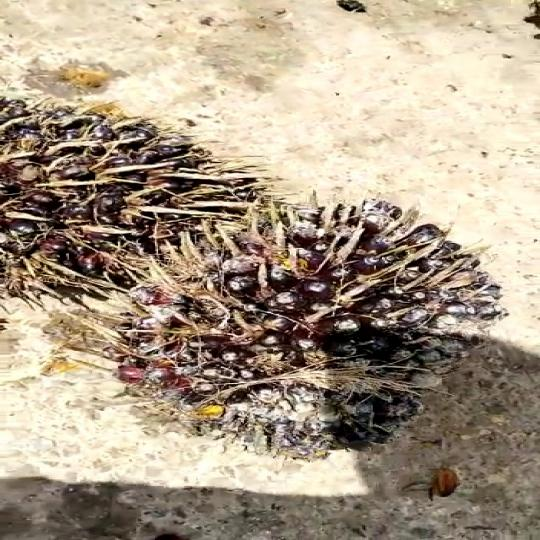mentah: (115, 178, 530, 463), (0, 87, 332, 306)
